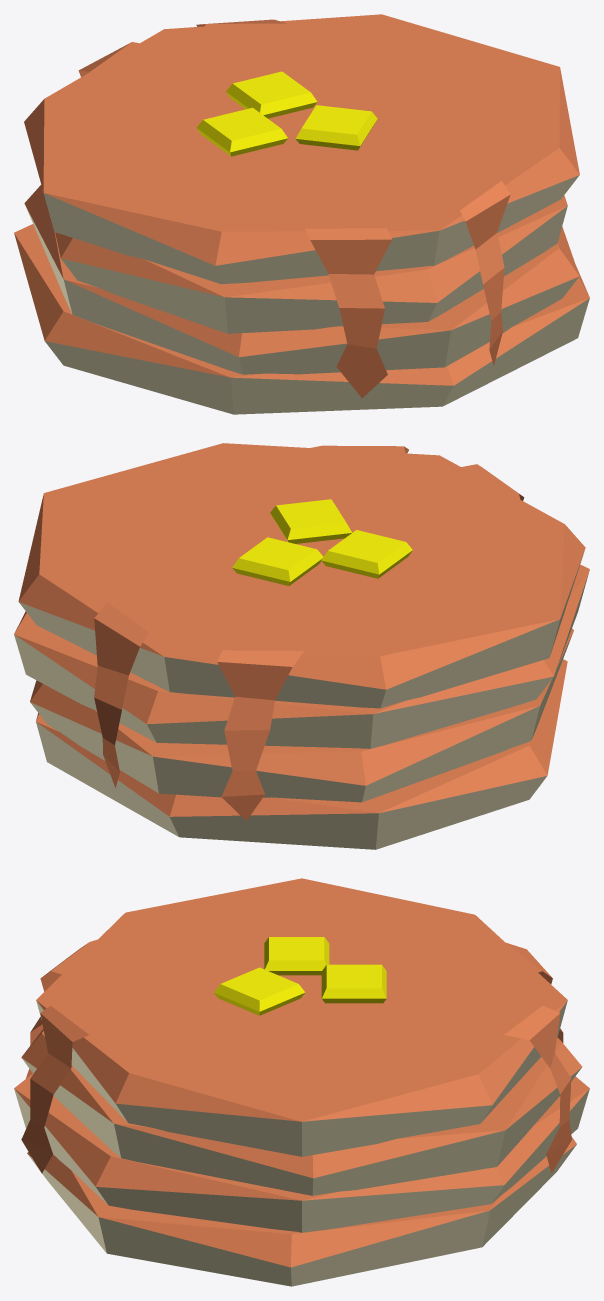
Rendered from Pancake Stack.fbx.
The picture shows the model from 3 angles, top to bottom: view 1: azimuth 30°, elevation 25°; view 2: azimuth 150°, elevation 25°; view 3: azimuth 270°, elevation 25°; orthographic projection. The views are drawn at different scales.
Visible parts, largest first — view 1: Pancake Stack; view 2: Pancake Stack; view 3: Pancake Stack.
Part boxes in pixels (x1,y1,x2,y2): Pancake Stack: [14, 14, 589, 414]; Pancake Stack: [14, 443, 589, 849]; Pancake Stack: [14, 878, 589, 1286].
Size of the model in its own units: 21.13 by 8.33 by 21.13.
